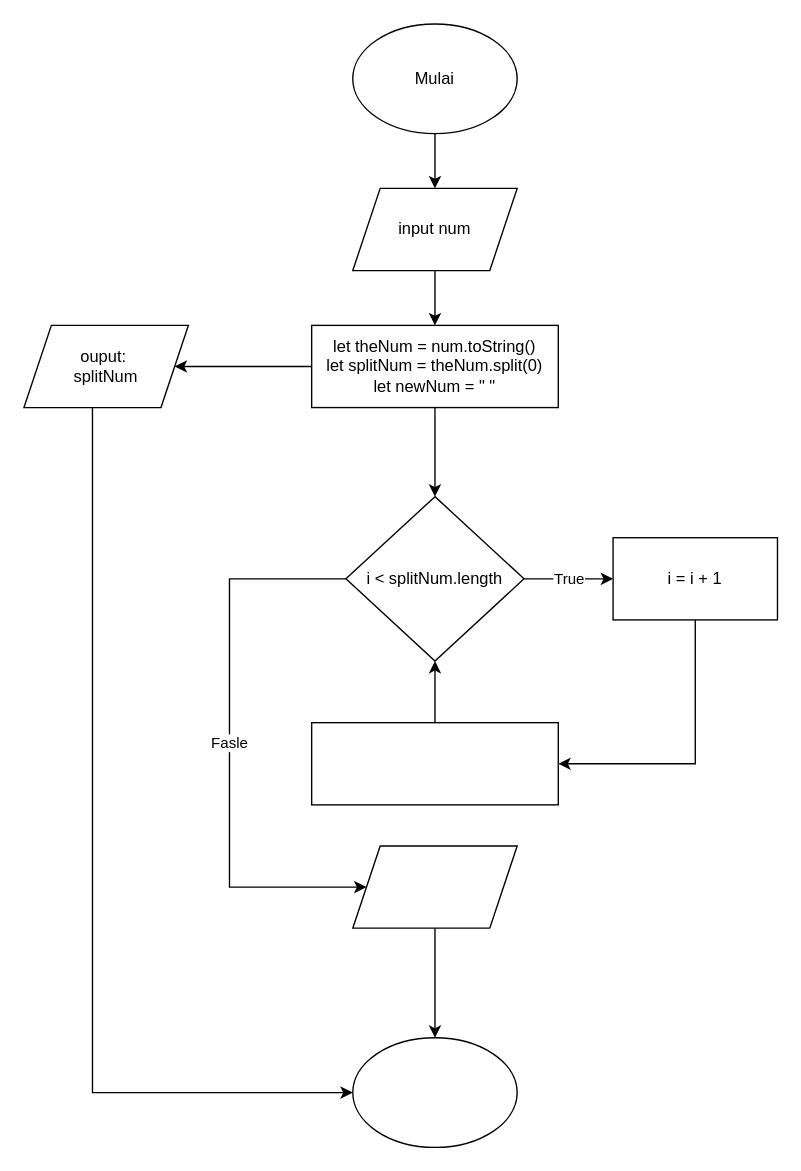
The diagram is 801 pixels wide and 1171 high, and some of its shapes have lost their labels. The centre of each missing label's shape, as x and y in pixels:
newNum += splitNum[i].split(").sort().join(): point 434,763
ouput: newNum: point 434,886
Selesai: point 434,1091
